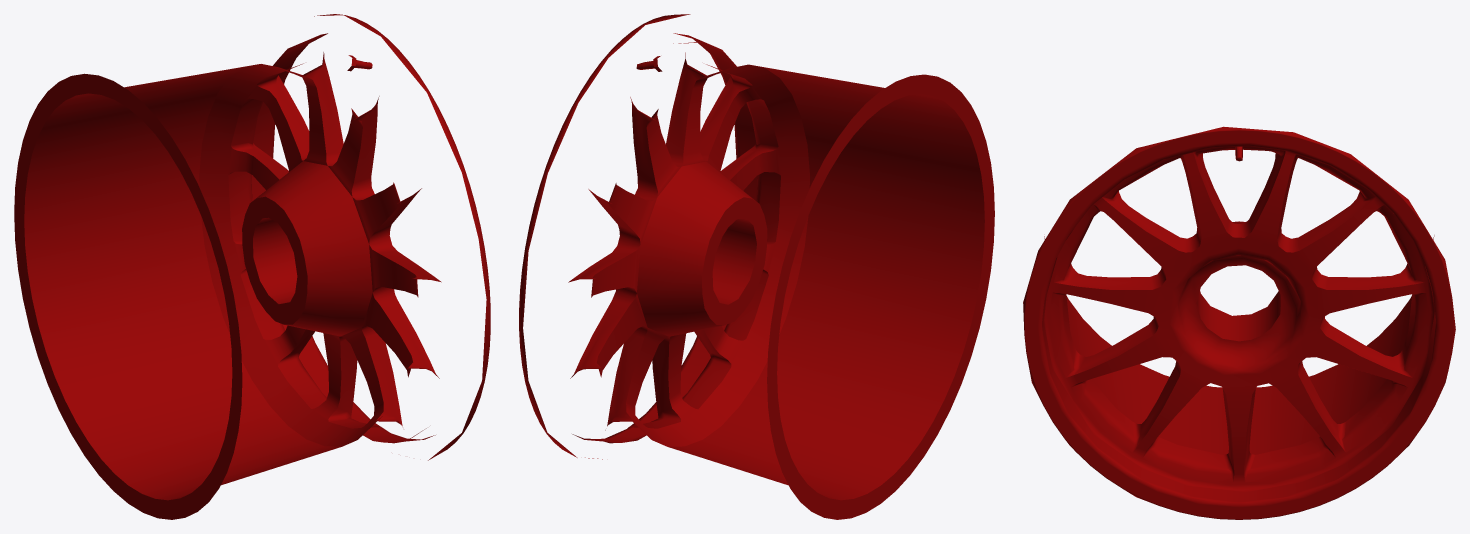
The model's file is lamborghini_huracan_st_rim_lr_Lod1.gltf.
The picture shows the model from 3 angles, left to right: view 1: azimuth 30°, elevation 25°; view 2: azimuth 150°, elevation 25°; view 3: azimuth 270°, elevation 25°; orthographic projection. The views are drawn at different scales.
Visible parts, largest first — view 1: lamborghini_huracan_st_rim_lr_Lod1; view 2: lamborghini_huracan_st_rim_lr_Lod1; view 3: lamborghini_huracan_st_rim_lr_Lod1.
Boxes of the visible parts, x1=… form: lamborghini_huracan_st_rim_lr_Lod1: x1=14, y1=14, x2=490, y2=519; lamborghini_huracan_st_rim_lr_Lod1: x1=519, y1=14, x2=994, y2=519; lamborghini_huracan_st_rim_lr_Lod1: x1=1023, y1=126, x2=1455, y2=519.
Size of the model in its own units: 0.3135 by 0.4977 by 0.4981.
